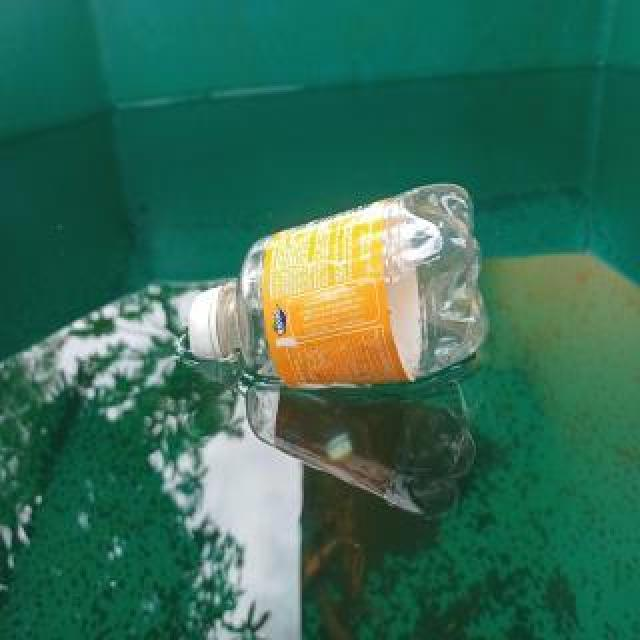bottle: (184, 175, 498, 395)
